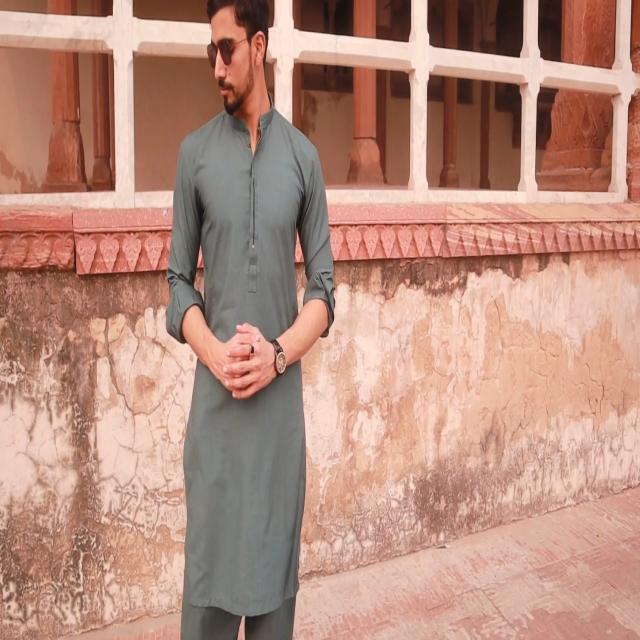dress: (164, 87, 338, 640)
glasses: (206, 35, 237, 71)
